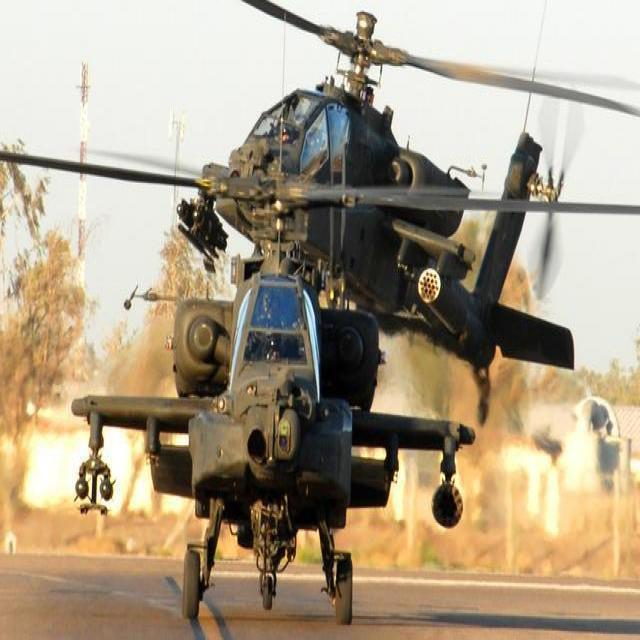MIL_HELO: (0, 140, 628, 623), (176, 0, 640, 436)
